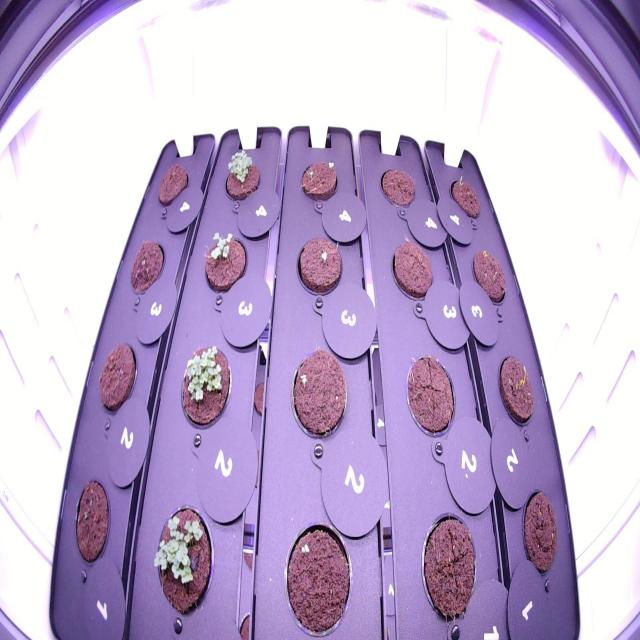germination: (278, 510, 356, 640), (148, 496, 217, 626), (285, 336, 353, 454), (173, 336, 236, 435), (289, 231, 348, 309), (198, 221, 252, 302), (494, 346, 540, 438), (215, 142, 265, 208), (294, 148, 343, 214)
pod: (414, 502, 482, 632), (401, 348, 458, 450), (514, 480, 564, 590), (67, 470, 114, 569), (94, 334, 144, 425), (383, 229, 438, 306), (444, 160, 491, 233), (468, 239, 514, 313), (124, 230, 168, 302), (376, 158, 421, 215), (152, 156, 192, 218)
